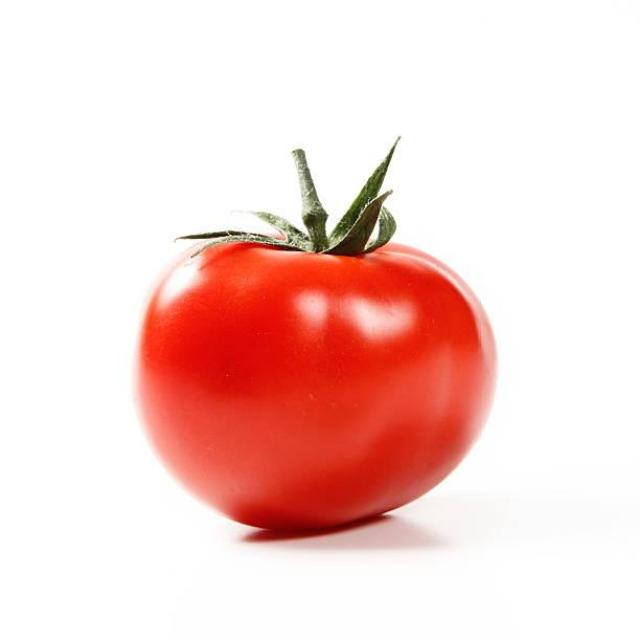Tomato: (135, 196, 496, 530)
